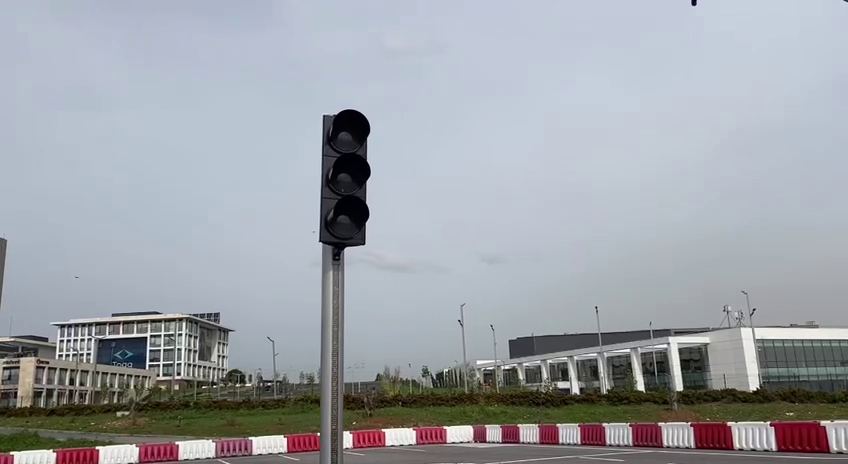trafficLight: (314, 106, 374, 253)
